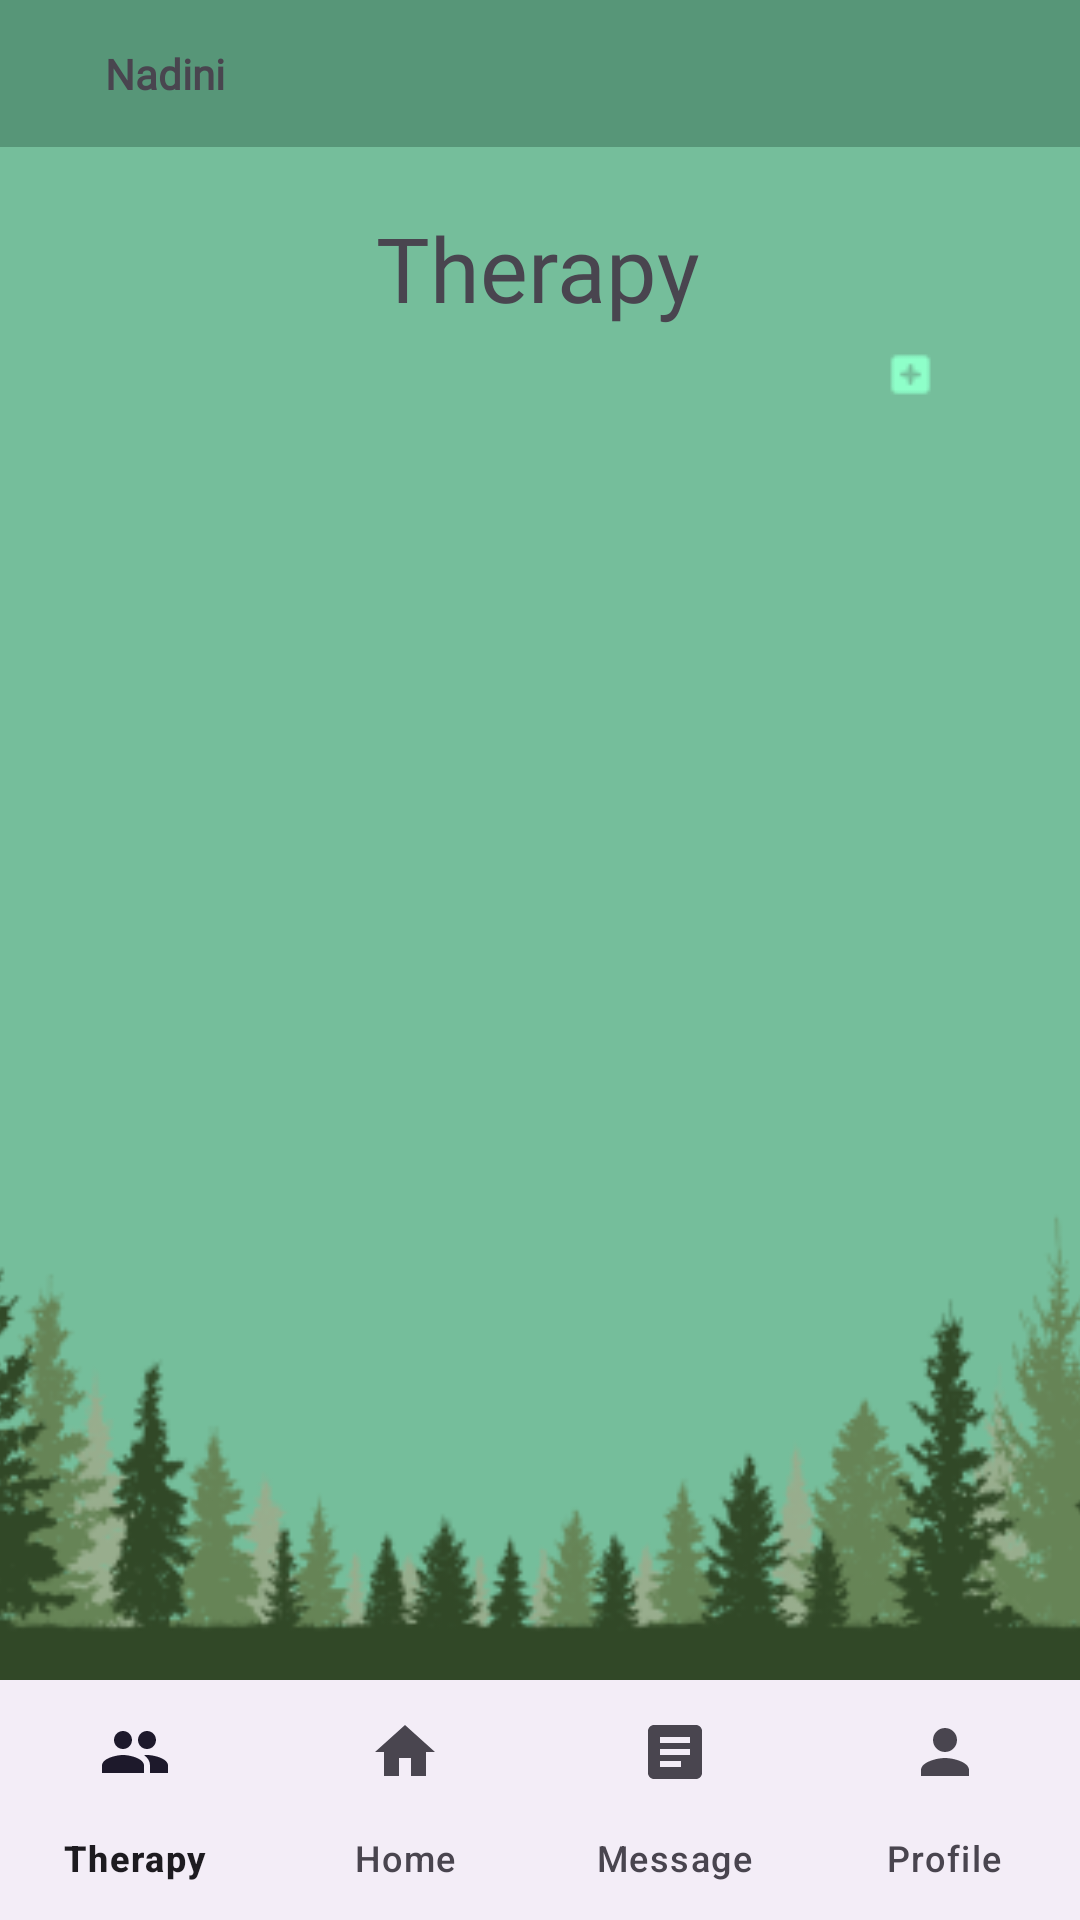

Icon bounding boxes for this 1080 × 1920 phone screenshot, format box=[x1, y1, x2, y2]:
plus: box=[891, 355, 930, 394]
